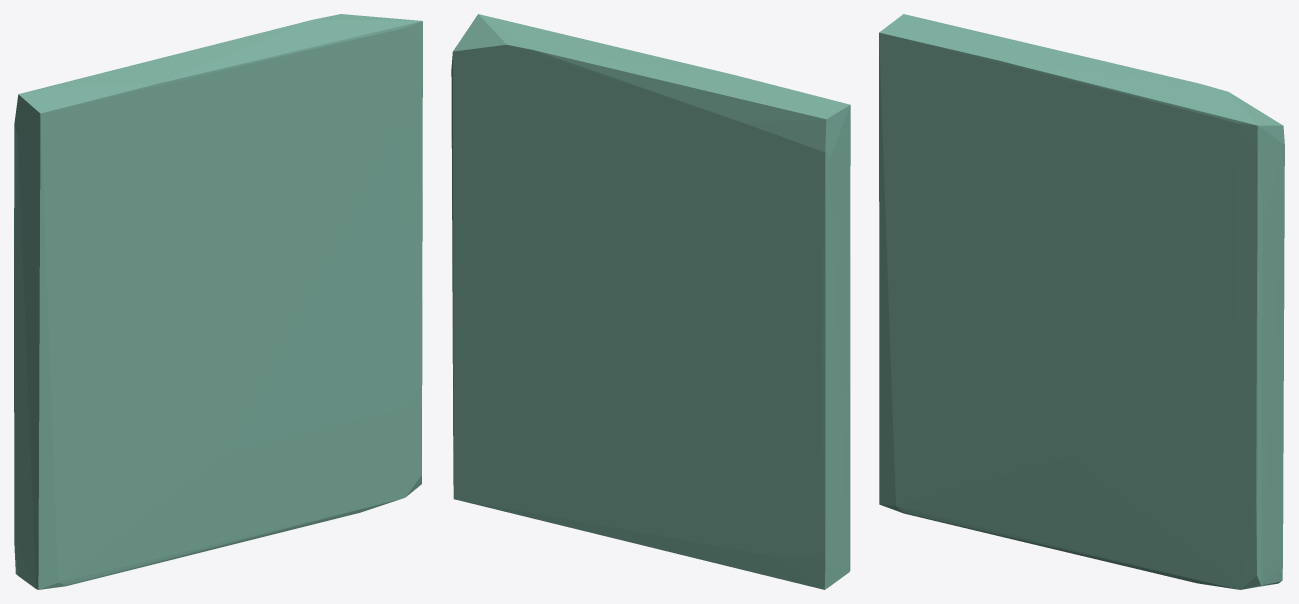
The model's file is pallet_wood_wing_a01.glb.
The picture shows the model from 3 angles, left to right: view 1: azimuth 30°, elevation 25°; view 2: azimuth 150°, elevation 25°; view 3: azimuth 330°, elevation 25°; orthographic projection. The views are drawn at different scales.
Visible parts, largest first — view 1: geometry_0; view 2: geometry_0; view 3: geometry_0.
Part boxes in pixels (x1,y1,x2,y2): geometry_0: (14,14,422,589); geometry_0: (451,14,850,589); geometry_0: (879,14,1284,589).
Bounding box in the file's own units: 0.4011 × 0.4792 × 0.0484.
